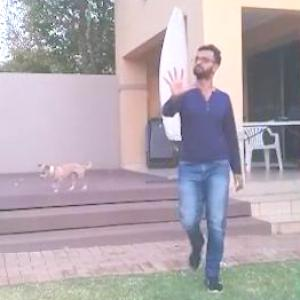follow_hand: (160, 60, 193, 100)
